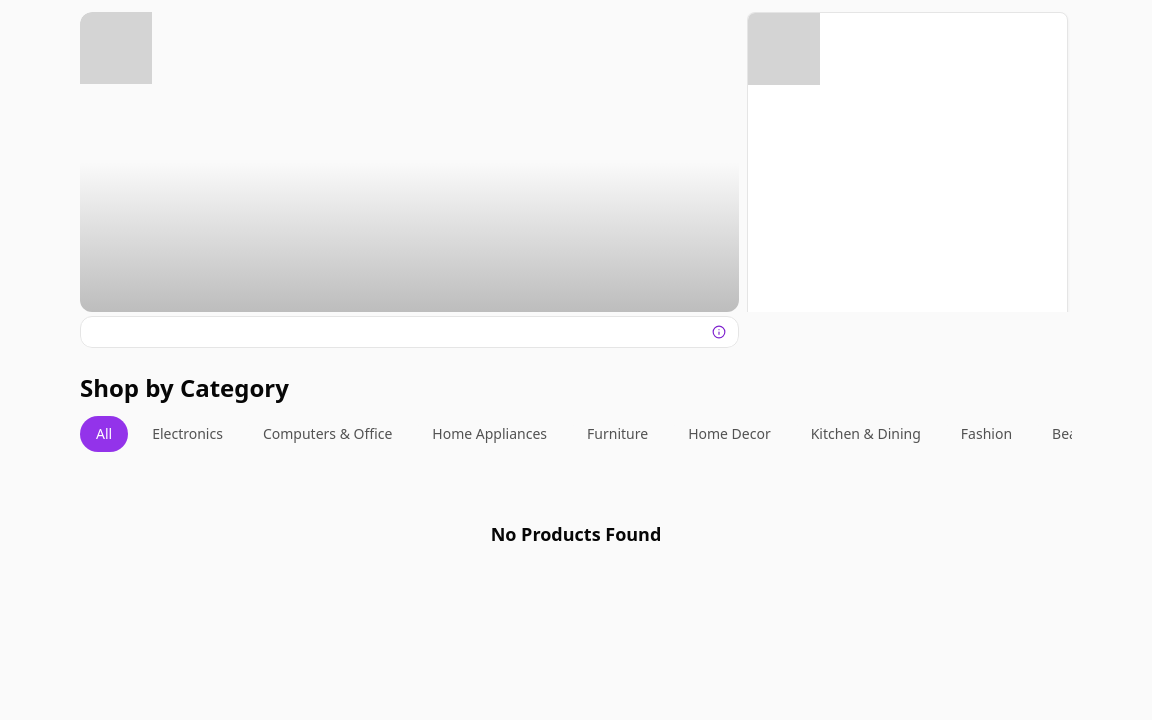
Scenario: HomeContent banner layout contract › opens modal details and exposes CTA link from banner linkUrl
Expected: the button named "know more about sidebar promo" is shown, [747,12,1068,312]
Click the button named "know more about sidebar promo".
click(907, 173)  # box [747,12,1068,333]
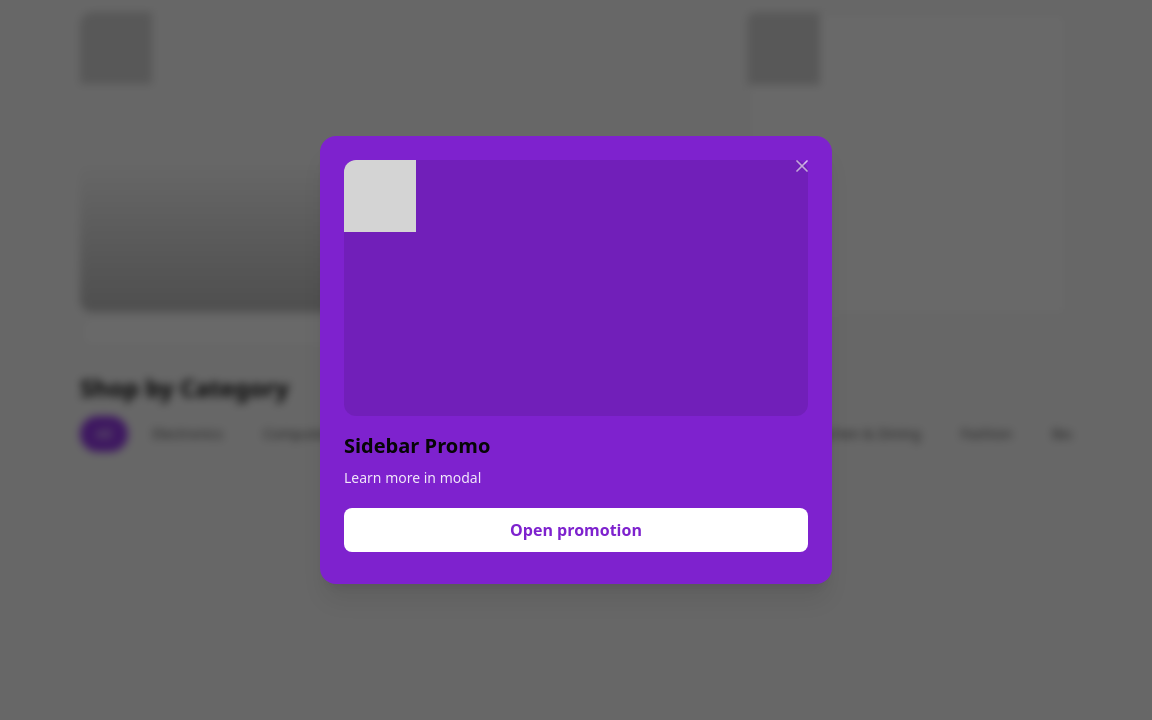
Expected: the dialog named "sidebar promo – details" is shown
Expected: the heading "Sidebar Promo" is shown, [344,432,490,459]
